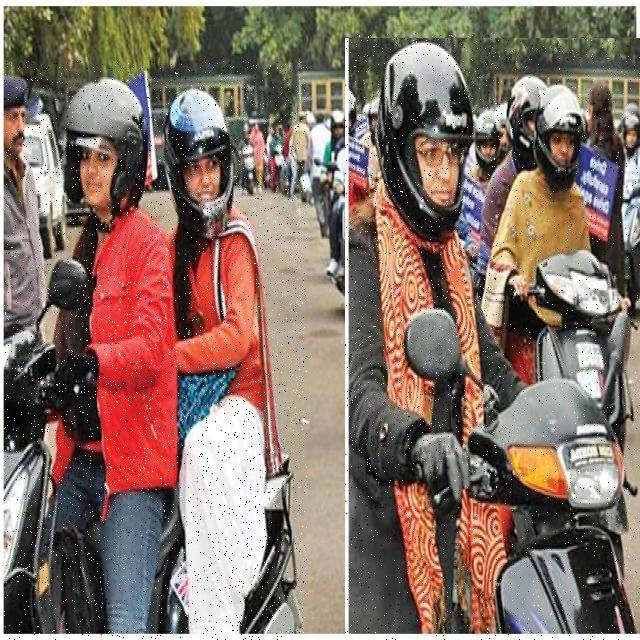With Helmet: (345, 38, 640, 640), (4, 61, 307, 640), (350, 33, 500, 472)
